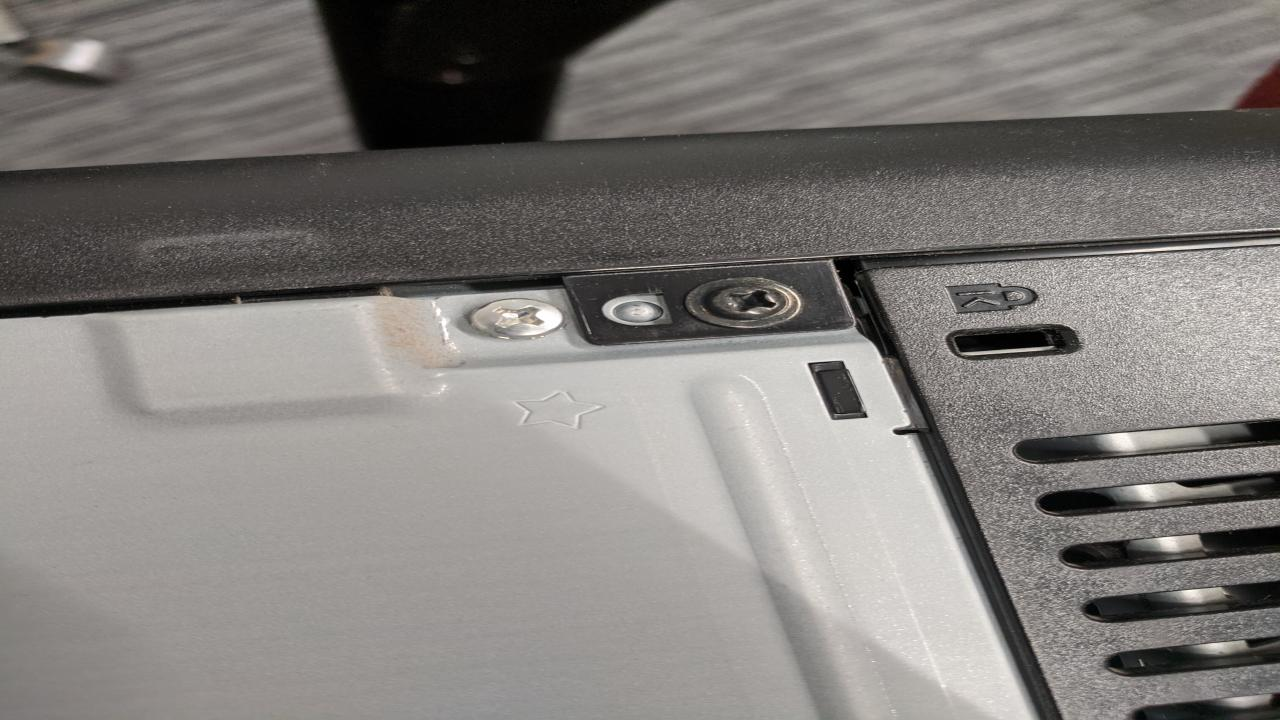CRS: (464, 296, 570, 340), (703, 284, 797, 318)
